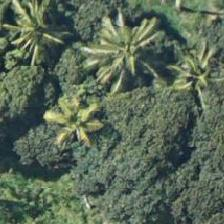coconut_tree: (26, 73, 116, 163), (79, 0, 169, 90), (154, 24, 223, 114), (0, 0, 74, 71)
